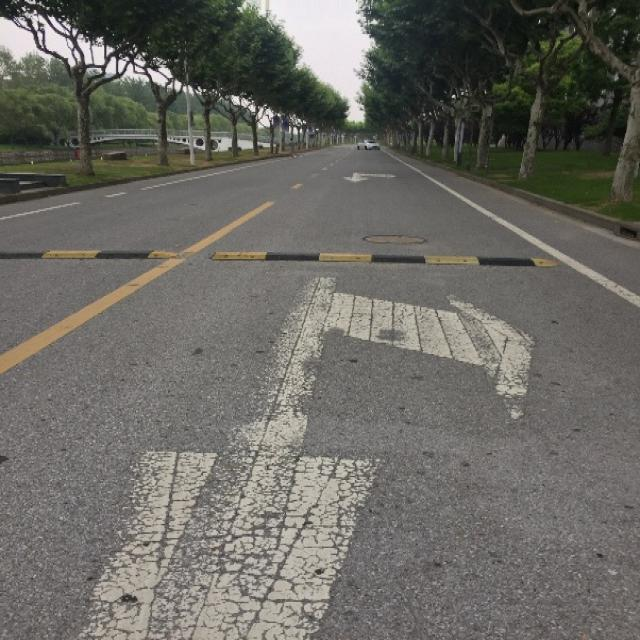Speed Bump: (0, 246, 559, 272)
